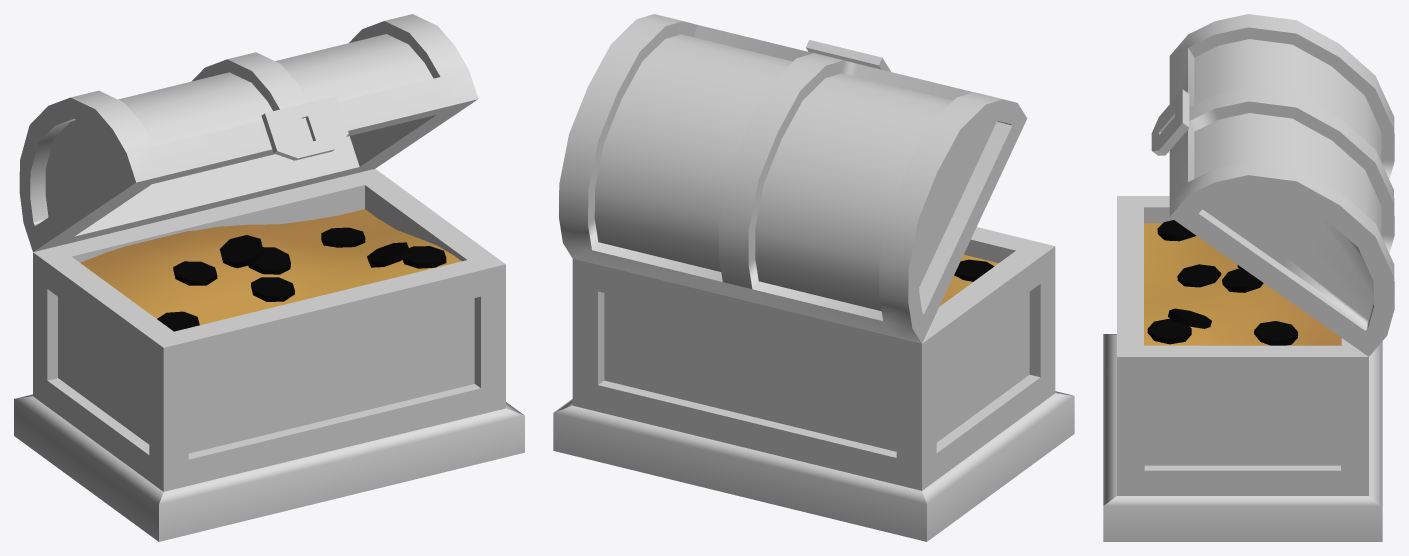
File: human-containers-treasure-chest_v1.fbx
3 renders of one model, left to right at view 1: azimuth 30°, elevation 25°; view 2: azimuth 150°, elevation 25°; view 3: azimuth 270°, elevation 25°, orthographic. The views are drawn at different scales.
Visible parts, largest first — view 1: Treasure Chest; view 2: Treasure Chest; view 3: Treasure Chest.
Part boxes in pixels (x1,y1,x2,y2): Treasure Chest: [14, 14, 524, 541]; Treasure Chest: [553, 14, 1074, 541]; Treasure Chest: [1103, 14, 1394, 541].
Size of the model in its own units: 0.6 by 0.5868 by 0.4291.
